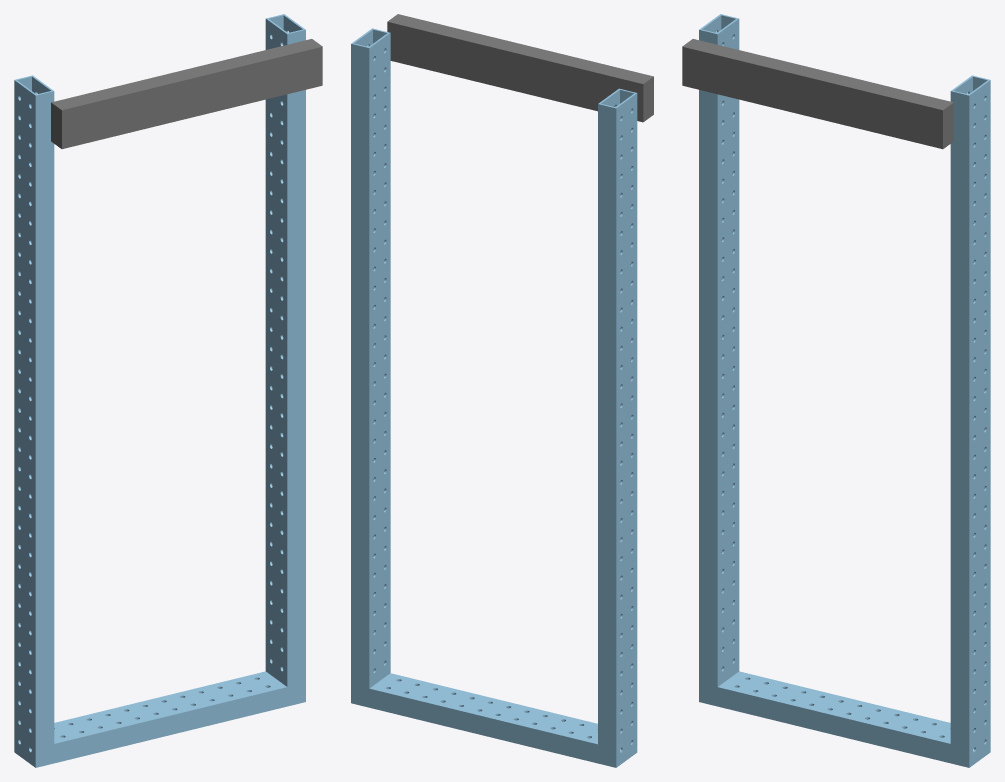
The picture shows the model from 3 angles, left to right: view 1: azimuth 30°, elevation 25°; view 2: azimuth 150°, elevation 25°; view 3: azimuth 330°, elevation 25°; orthographic projection.
Parts seen in each view (by area): view 1: Part 7 (×2), Part 25, Part 10; view 2: Part 7 (×2), Part 25, Part 10; view 3: Part 7 (×2), Part 25, Part 10.
Boxes of the visible parts, <box> form: Part 7 (×2): <box>14,14,305,767</box>; Part 25: <box>51,39,322,149</box>; Part 10: <box>54,671,287,763</box>; Part 7 (×2): <box>351,28,637,767</box>; Part 25: <box>387,14,653,122</box>; Part 10: <box>369,673,597,763</box>; Part 7 (×2): <box>699,14,990,767</box>; Part 25: <box>682,39,953,149</box>; Part 10: <box>717,671,950,763</box>.
Size of the model in its own units: 0.29 by 0.6893 by 0.08.
